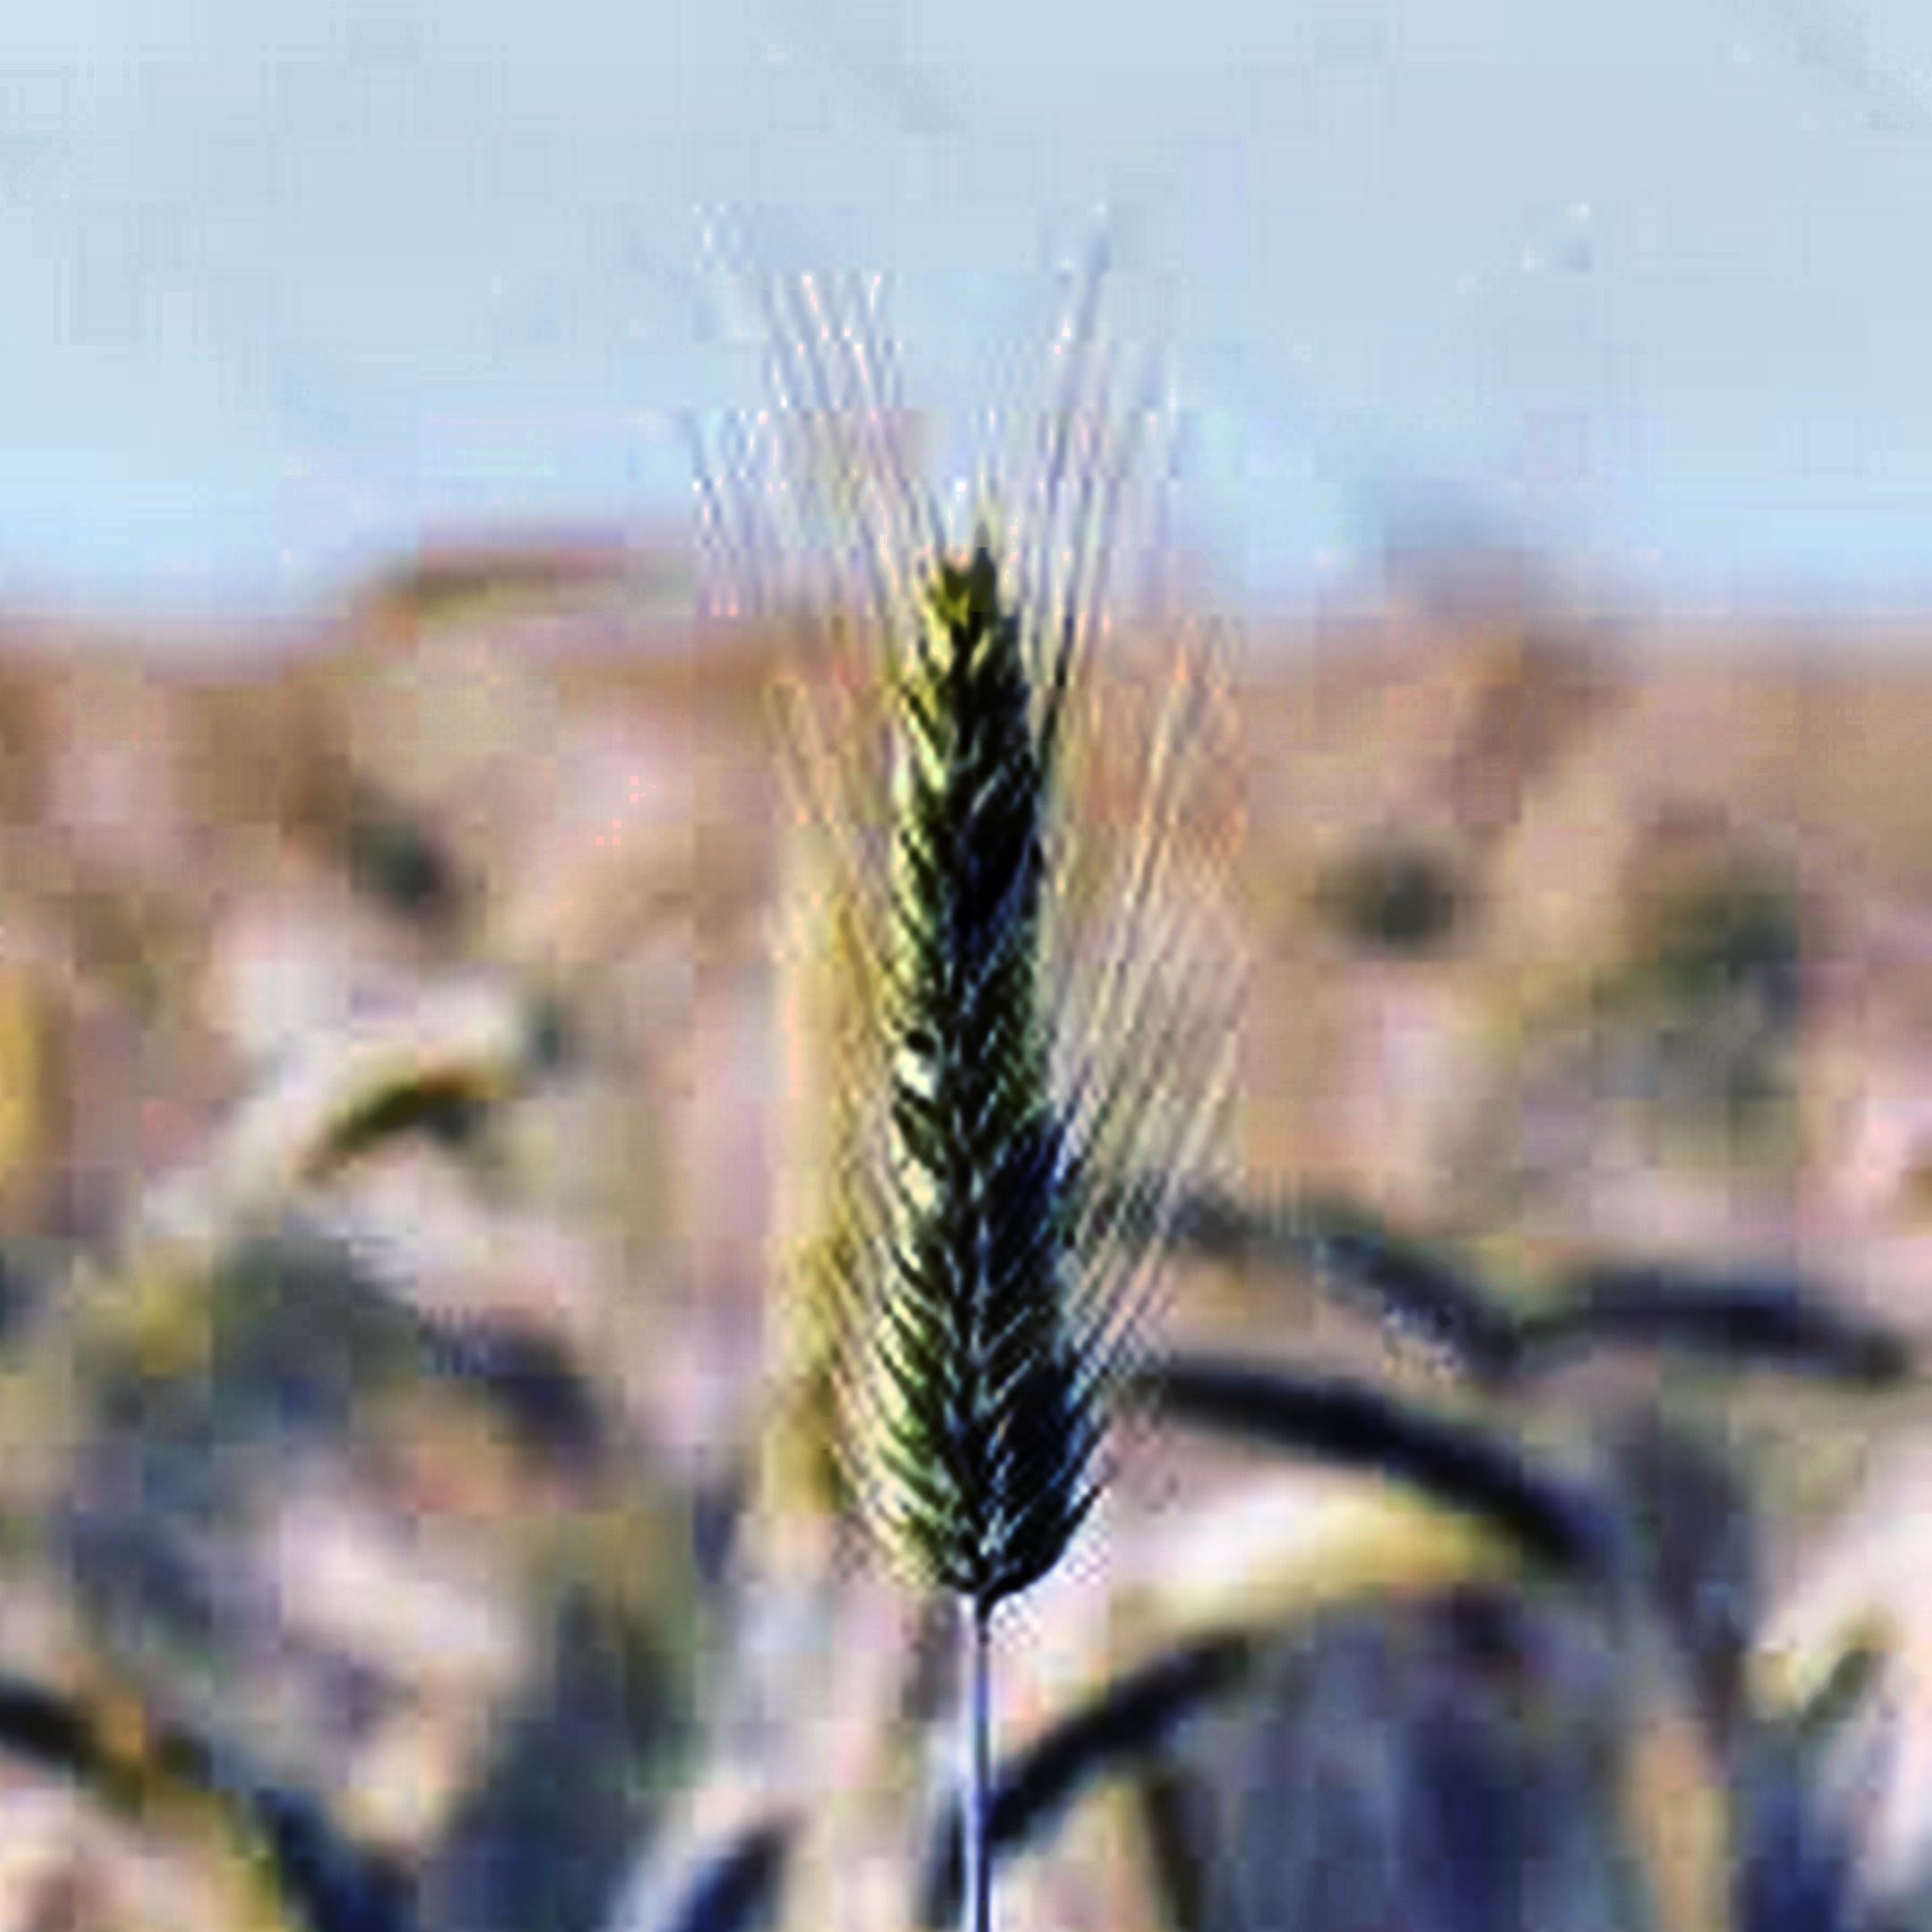Healthy Wheat: (817, 522, 1157, 1605)
